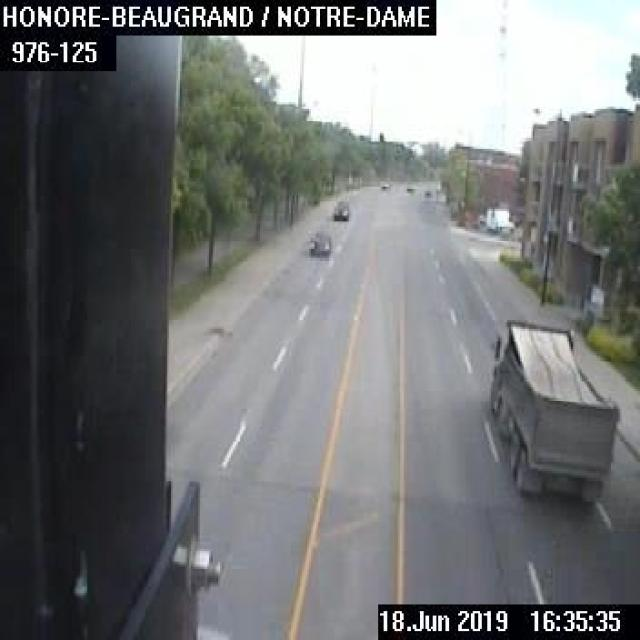vehicle: (486, 318, 618, 502), (305, 229, 331, 255), (331, 200, 349, 220), (422, 187, 432, 196), (405, 184, 413, 193), (380, 183, 388, 191)
